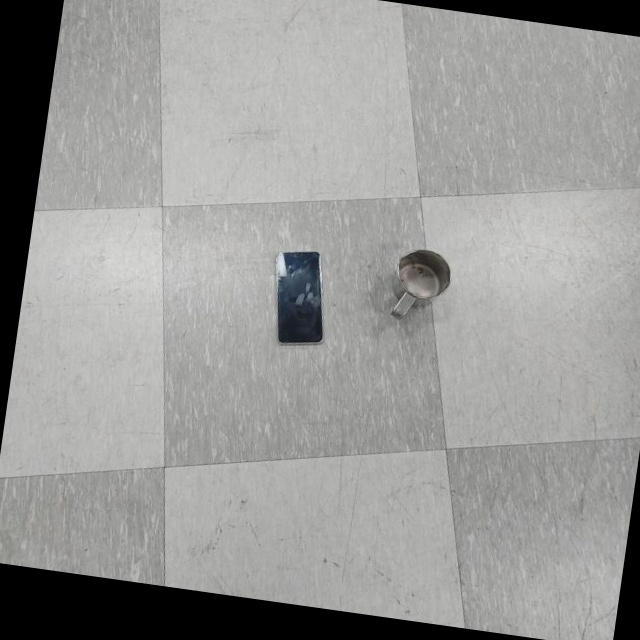cup: (384, 243, 456, 330)
phone: (262, 245, 338, 354)
